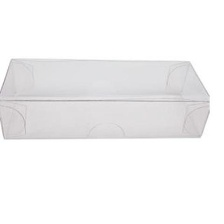plastic_box: (0, 46, 216, 148)
